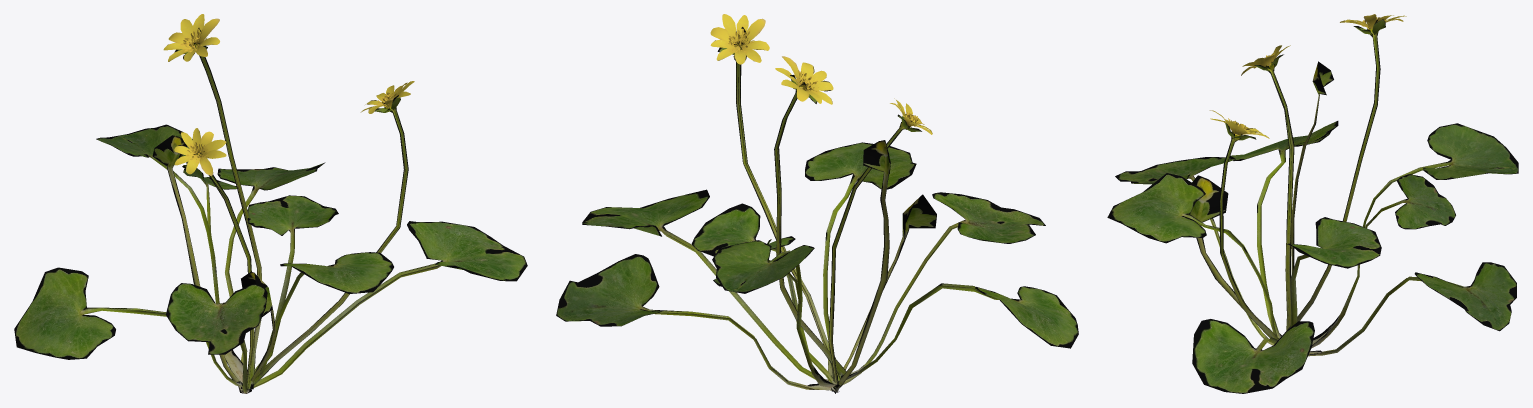
3 views of the same model, side by side, from view 1: azimuth 30°, elevation 25°; view 2: azimuth 150°, elevation 25°; view 3: azimuth 270°, elevation 25° (orthographic). The views are drawn at different scales.
Parts seen in each view (by area): view 1: celandine_01_c_LOD0; view 2: celandine_01_c_LOD0; view 3: celandine_01_c_LOD0.
Part boxes in pixels (x1=…): celandine_01_c_LOD0: x1=14, y1=14, x2=527, y2=393; celandine_01_c_LOD0: x1=556, y1=14, x2=1078, y2=393; celandine_01_c_LOD0: x1=1107, y1=14, x2=1518, y2=393.
Bounding box in the file's own units: 0.2571 × 0.1756 × 0.1863.
1 material, 1 textured.
